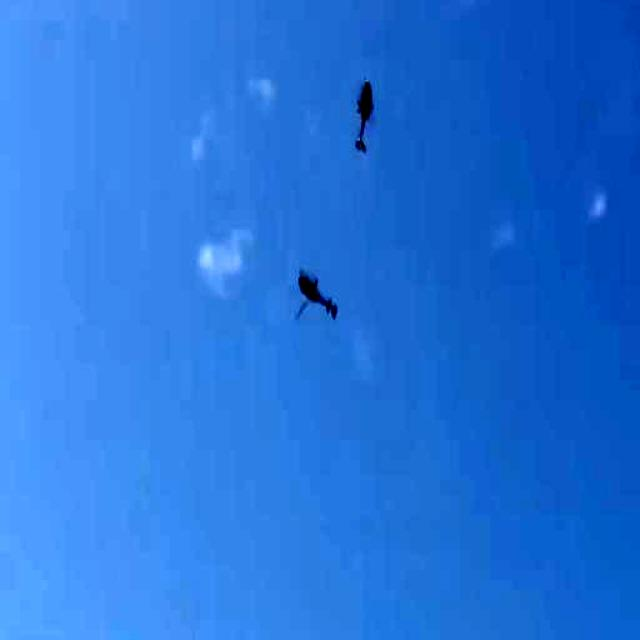drone: (298, 250, 344, 332), (344, 75, 385, 164)
